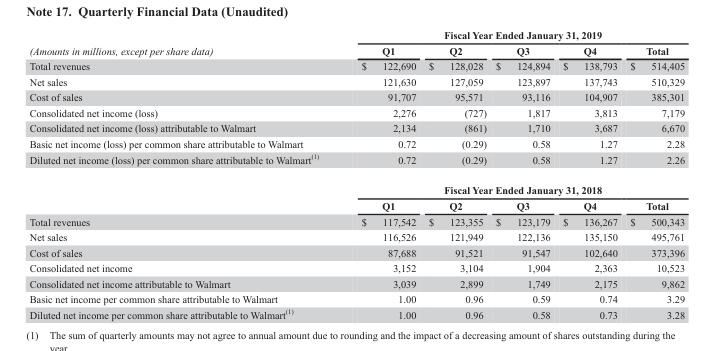table: (28, 29, 684, 319)
table column: (28, 29, 339, 319), (339, 29, 421, 319), (421, 29, 490, 319), (556, 29, 623, 319), (490, 29, 556, 319), (623, 29, 684, 319)
table column header: (28, 29, 684, 58)
table row: (28, 150, 684, 174), (28, 174, 684, 197), (28, 42, 684, 58), (28, 73, 684, 89), (28, 104, 684, 120), (28, 197, 684, 213), (28, 228, 684, 244), (28, 259, 684, 275), (28, 58, 684, 73), (28, 89, 684, 104), (28, 120, 684, 135), (28, 135, 684, 150), (28, 213, 684, 228), (28, 244, 684, 259), (28, 275, 684, 290), (28, 290, 684, 305), (28, 305, 684, 319), (28, 29, 684, 42)
table spanning cell: (28, 29, 339, 58), (339, 174, 684, 197), (339, 29, 684, 42)
